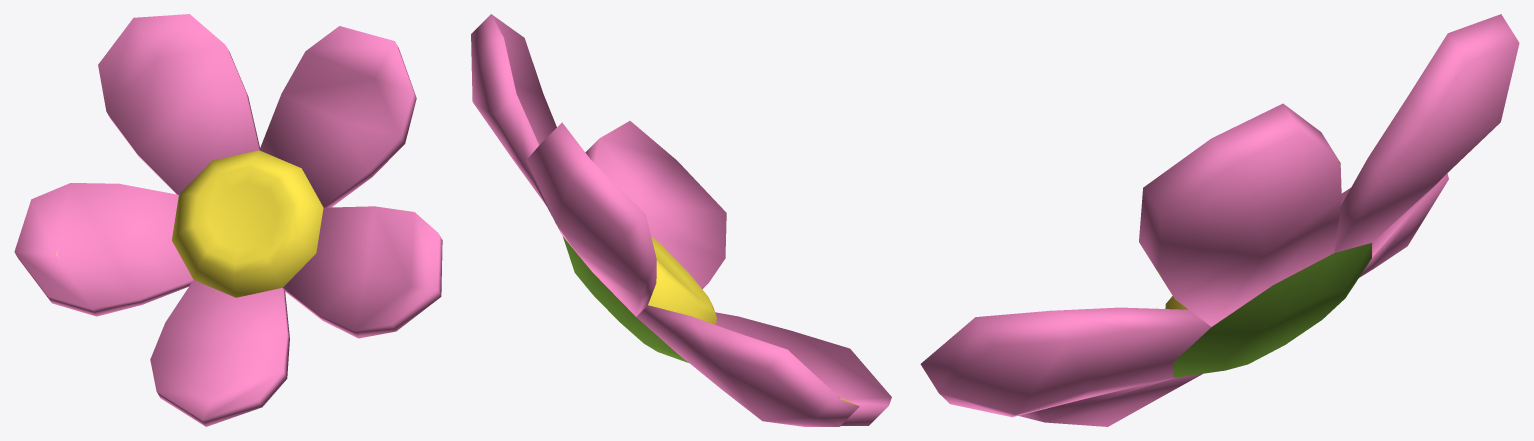
File: Flower.fbx
3 views of the same model, side by side, from view 1: azimuth 30°, elevation 25°; view 2: azimuth 150°, elevation 25°; view 3: azimuth 270°, elevation 25° (orthographic). The views are drawn at different scales.
Visible parts, largest first — view 1: Flower; view 2: Flower; view 3: Flower.
Part boxes in pixels (x1,y1,x2,y2): Flower: (14, 14, 442, 426); Flower: (471, 14, 891, 426); Flower: (920, 14, 1519, 426).
Size of the model in its own units: 130 by 110 by 129.
